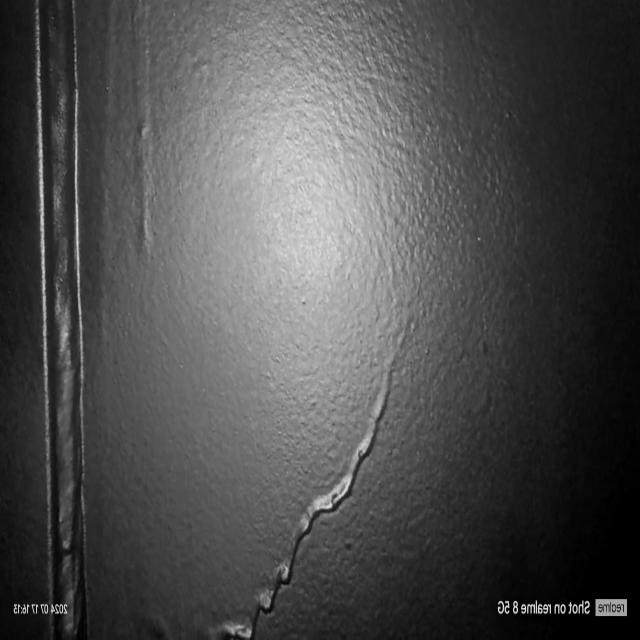paint drips: (194, 332, 411, 640), (90, 0, 158, 348)
